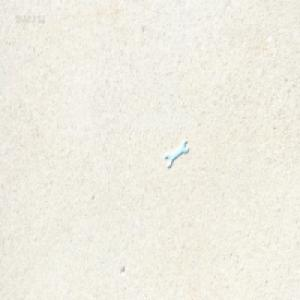Wrench: (164, 138, 188, 167)
